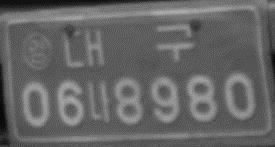0: (224, 71, 257, 119), (20, 80, 51, 127)
6: (55, 77, 86, 129)
8: (114, 77, 144, 124), (187, 76, 217, 123)
9: (150, 75, 180, 124)
나: (86, 79, 112, 125)
대구_D: (61, 22, 196, 69)
영: (20, 30, 56, 70)
